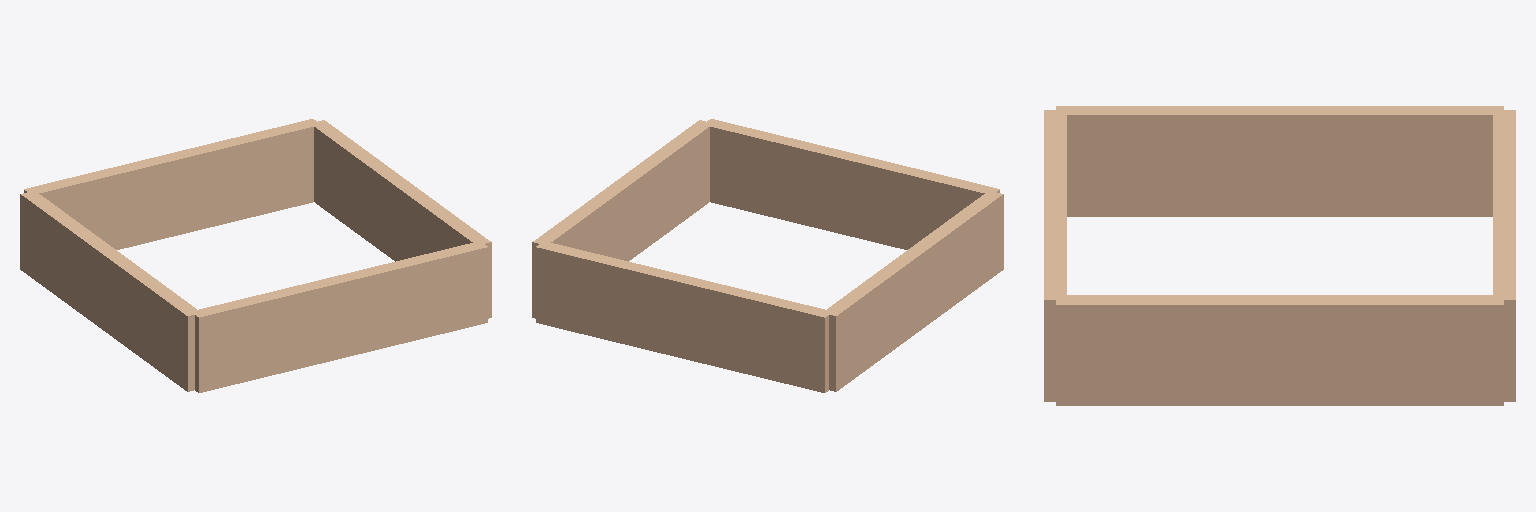
URDF robot description (walls):
<?xml version="1.0"?>
<robot name="walls">
  <!--Room 0-->
  <link name="wall_link0">
    <visual>
      <origin xyz="2 0 0" rpy="0 0 0" />
      <geometry>
        <box size="0.2 4 1" />
      </geometry>
      <material name="desert sand">
        <color rgba="0.9297 0.7930 0.6758 1" />
      </material>
    </visual>
    <collision>
      <origin xyz="2 0 0" rpy="0 0 0" />
      <geometry>
        <box size="0.2 4 1" />
      </geometry>
    </collision>
  </link>
  <joint name="joint01" type="fixed">
    <parent link="wall_link0"/>
    <child link="wall_link1"/>
    <origin xyz="0 0 0"/>
  </joint>
  <link name="wall_link1">
    <visual>
      <origin xyz="-2 0 0" rpy="0 0 0" />
      <geometry>
        <box size="0.2 4 1" />
      </geometry>
      <material name="desert sand">
        <color rgba="0.9297 0.7930 0.6758 1" />
      </material>
    </visual>
    <collision>
      <origin xyz="-2 0 0" rpy="0 0 0" />
      <geometry>
        <box size="0.2 4 1" />
      </geometry>
    </collision>
  </link>
  <joint name="joint12" type="fixed">
    <parent link="wall_link1"/>
    <child link="wall_link2"/>
    <origin xyz="0 0 0"/>
  </joint>
  <link name="wall_link2">
    <visual>
      <origin xyz="0 -2 0" rpy="0 0 0" />
      <geometry>
        <box size="4 0.2 1" />
      </geometry>
      <material name="desert sand">
        <color rgba="0.9297 0.7930 0.6758 1" />
      </material>
    </visual>
    <collision>
      <origin xyz="0 -2 0" rpy="0 0 0" />
      <geometry>
        <box size="4 0.2 1" />
      </geometry>
    </collision>
  </link>
  <joint name="joint03" type="fixed">
    <parent link="wall_link0"/>
    <child link="wall_link3"/>
    <origin xyz="0 0 0"/>
  </joint>
  <link name="wall_link3">
    <visual>
      <origin xyz="0 2 0" rpy="0 0 0" />
      <geometry>
        <box size="4 0.2 1" />
      </geometry>
      <material name="desert sand">
        <color rgba="0.9297 0.7930 0.6758 1" />
      </material>
    </visual>
    <collision>
      <origin xyz="0 2 0" rpy="0 0 0" />
      <geometry>
        <box size="4 0.2 1" />
      </geometry>
    </collision>
  </link>
</robot>

--- What the picture shows (computed from the rendered views, not written in the file) ---
The picture shows the robot from 3 angles, left to right: view 1: azimuth 30°, elevation 25°; view 2: azimuth 150°, elevation 25°; view 3: azimuth 270°, elevation 25°; orthographic projection.
Robot: walls — 4 links, 3 joints (3 fixed); root link wall_link0; default pose: every joint at zero.
Visible links, largest first — view 1: wall_link2, wall_link3, wall_link1, wall_link0; view 2: wall_link3, wall_link2, wall_link1, wall_link0; view 3: wall_link0, wall_link1, wall_link2, wall_link3.
Boxes of the visible links, box(x1,y1,x2,y2) form: wall_link2: box(191, 242, 487, 392); wall_link3: box(24, 119, 319, 249); wall_link1: box(20, 191, 201, 391); wall_link0: box(314, 120, 491, 318); wall_link3: box(536, 243, 832, 392); wall_link2: box(703, 119, 999, 249); wall_link1: box(822, 191, 1003, 391); wall_link0: box(532, 120, 712, 318); wall_link0: box(1056, 295, 1503, 405); wall_link1: box(1056, 106, 1503, 216); wall_link2: box(1044, 110, 1066, 401); wall_link3: box(1493, 110, 1515, 401).
Bounding box of the posed robot: 4.2 × 4.2 × 1 m (x, y, z).
Geometry: primitives only (box / cylinder / sphere), no mesh files.